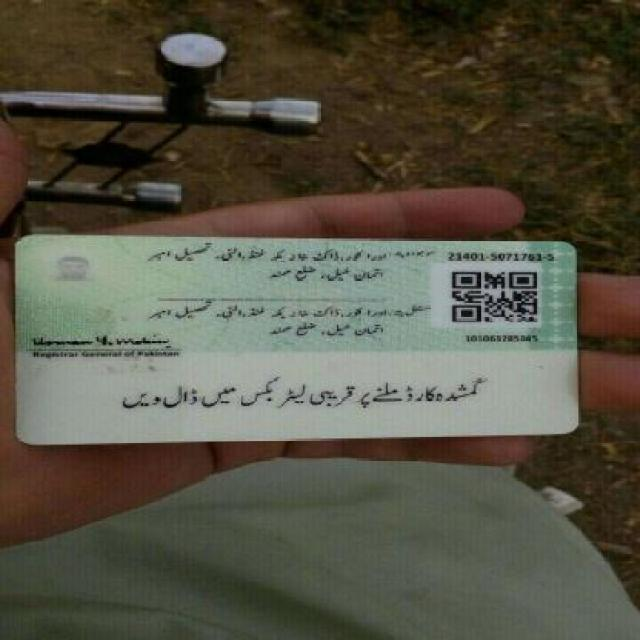Back: (3, 229, 585, 440)
